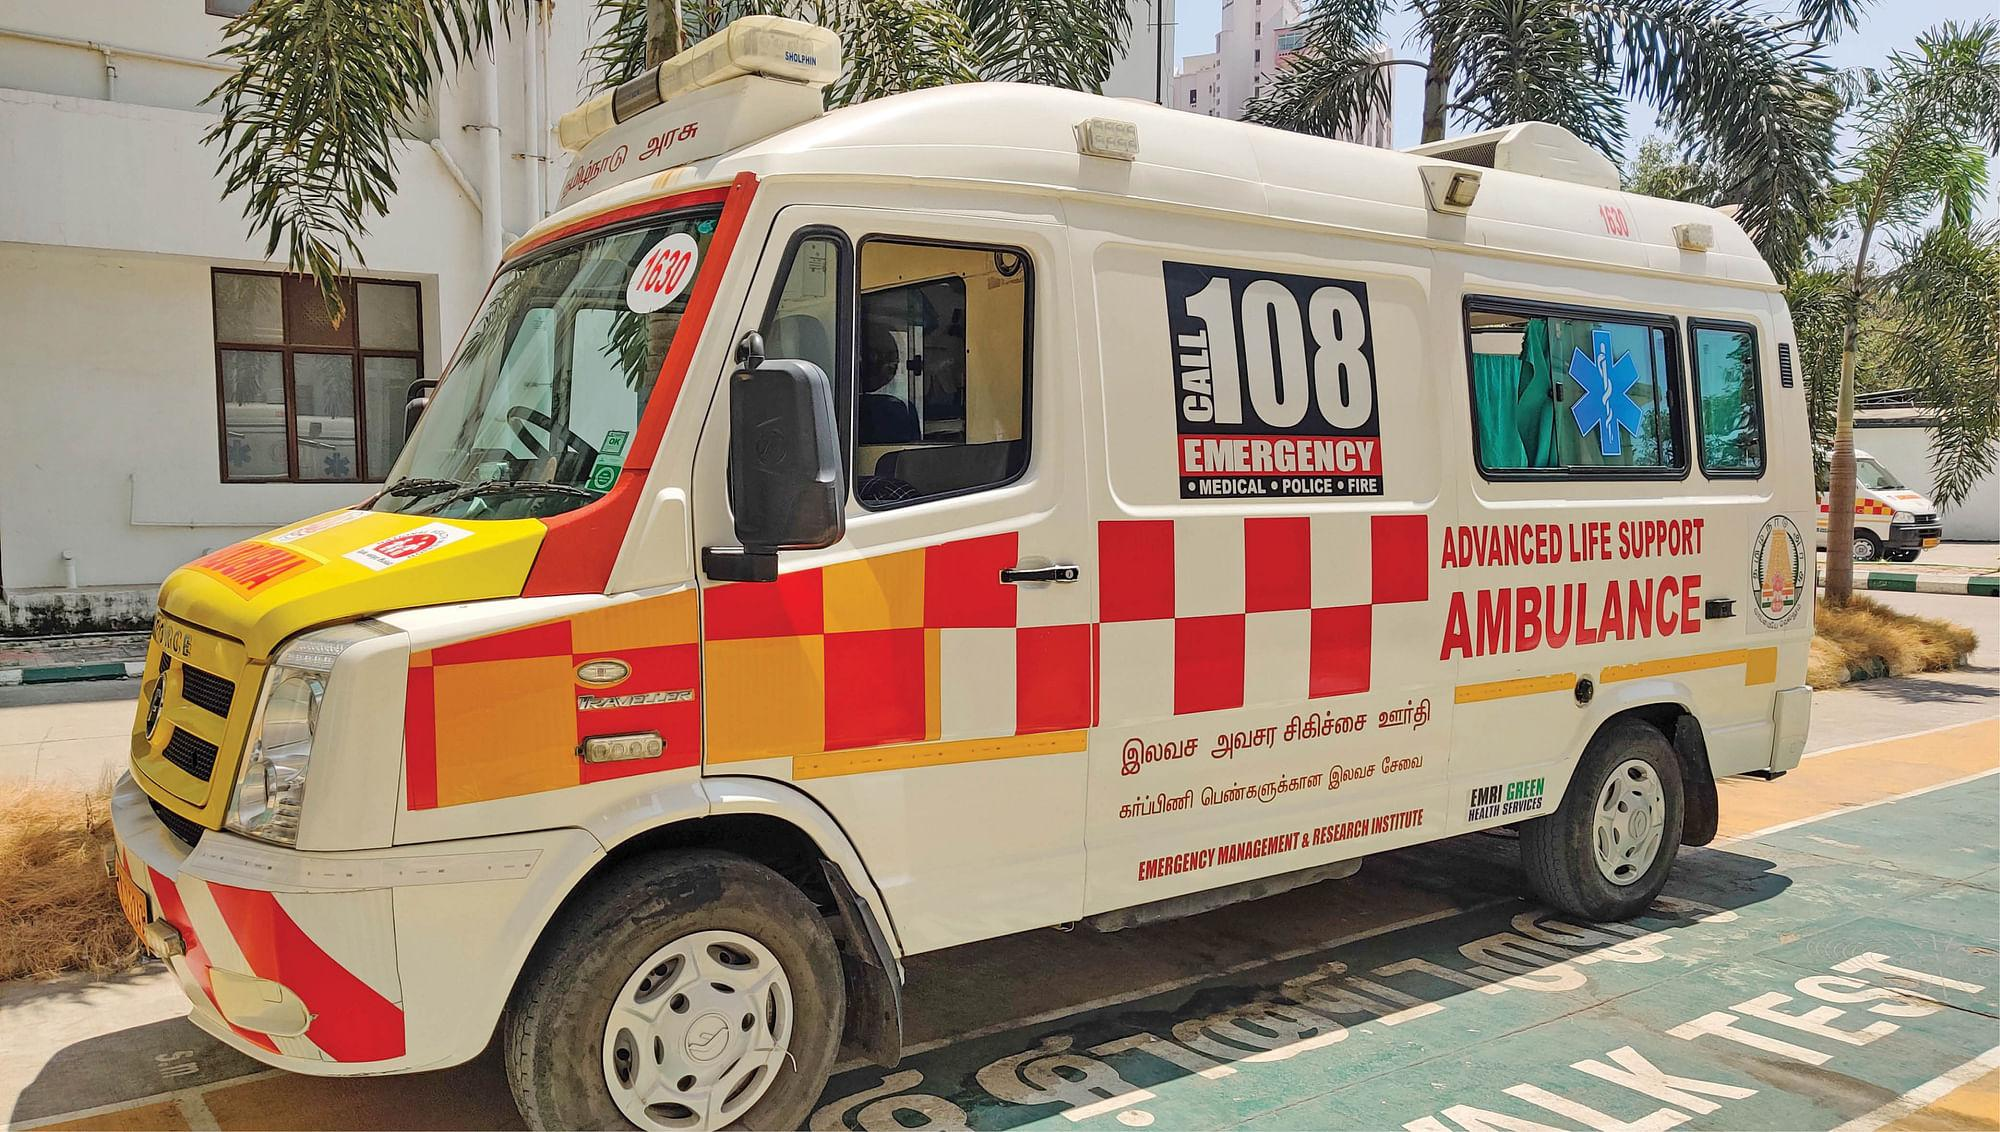ER: (114, 16, 1815, 1132)
